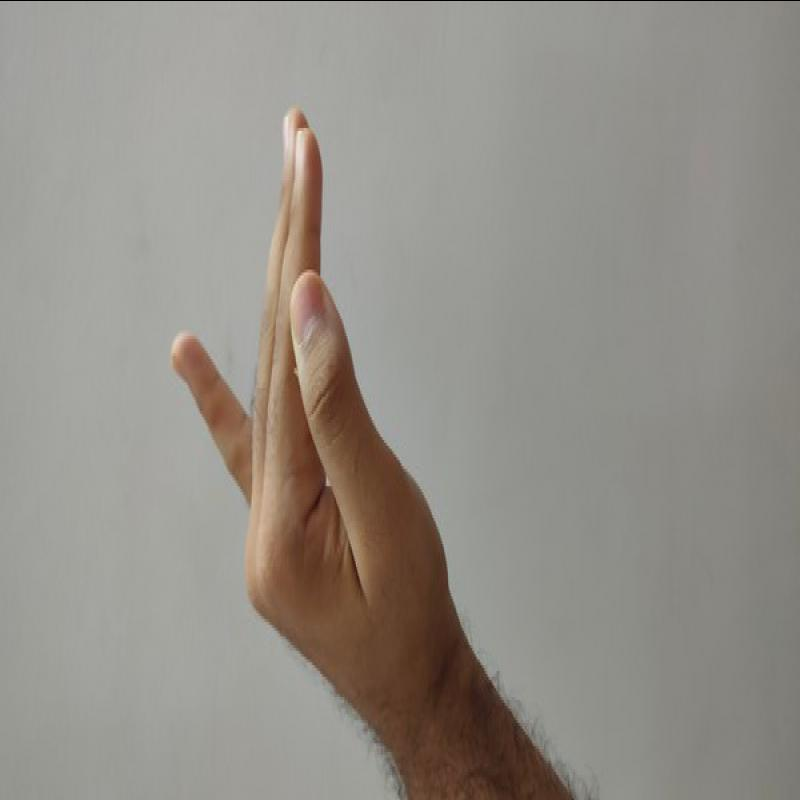Kartharee Mukham: (157, 91, 487, 727)
